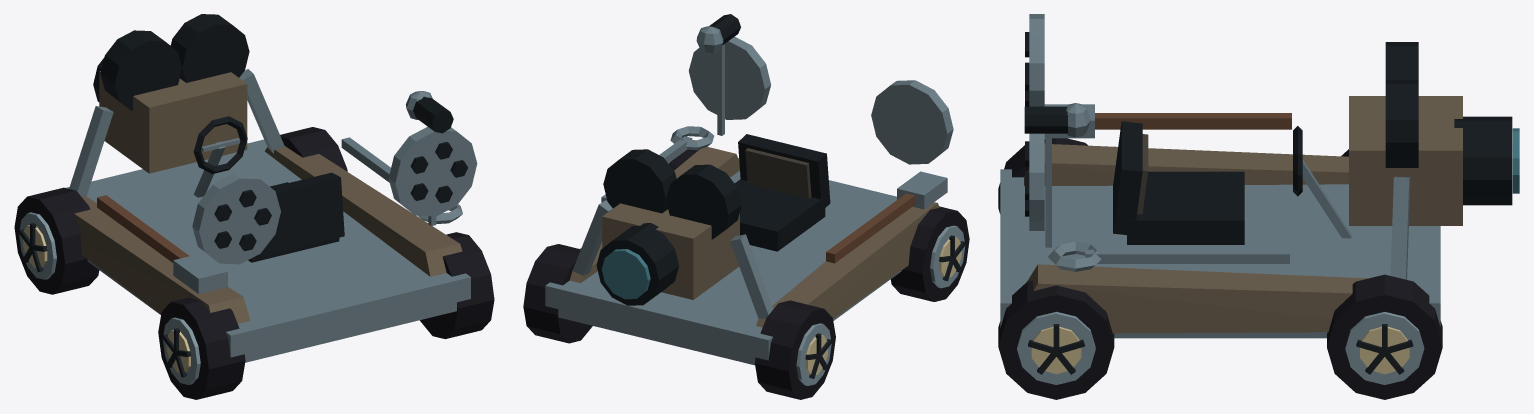
File: kart.glb
The picture shows the model from 3 angles, left to right: view 1: azimuth 30°, elevation 25°; view 2: azimuth 150°, elevation 25°; view 3: azimuth 270°, elevation 25°; orthographic projection. The views are drawn at different scales.
Visible parts, largest first — view 1: identity-camera-rig-camera-dolly-and-lens, identity-camera-rig-motif-film, identity-camera-rig-driver-cockpit, wheel-rear-left, wheel-front-left, identity-camera-rig-motif-tools, wheel-rear-right, wheel-front-right, identity-camera-rig-motif-microphone; view 2: identity-camera-rig-camera-dolly-and-lens, identity-camera-rig-motif-film, identity-camera-rig-driver-cockpit, wheel-front-left, wheel-rear-left, identity-camera-rig-motif-tools, wheel-front-right, identity-camera-rig-motif-microphone; view 3: identity-camera-rig-camera-dolly-and-lens, identity-camera-rig-driver-cockpit, wheel-front-right, wheel-rear-right, identity-camera-rig-motif-tools, identity-camera-rig-motif-film, identity-camera-rig-motif-microphone, wheel-rear-left.
Part boxes in pixels (box(x1,y1,x2,y2)): identity-camera-rig-camera-dolly-and-lens: box(66, 14, 470, 362); identity-camera-rig-motif-film: box(192, 126, 477, 264); identity-camera-rig-driver-cockpit: box(193, 116, 344, 262); wheel-rear-left: box(158, 297, 245, 399); wheel-front-left: box(14, 187, 99, 294); identity-camera-rig-motif-tools: box(97, 137, 462, 293); wheel-rear-right: box(420, 232, 494, 339); wheel-front-right: box(280, 127, 347, 171); identity-camera-rig-motif-microphone: box(406, 91, 453, 226); identity-camera-rig-camera-dolly-and-lens: box(545, 147, 939, 365); identity-camera-rig-motif-film: box(688, 36, 953, 164); identity-camera-rig-driver-cockpit: box(734, 134, 830, 251); wheel-front-left: box(755, 300, 835, 399); wheel-rear-left: box(890, 206, 969, 301); identity-camera-rig-motif-tools: box(601, 126, 947, 263); wheel-front-right: box(523, 244, 592, 343); identity-camera-rig-motif-microphone: box(696, 14, 740, 135); identity-camera-rig-camera-dolly-and-lens: box(1000, 42, 1519, 338); identity-camera-rig-driver-cockpit: box(1113, 121, 1351, 244); wheel-front-right: box(1327, 274, 1442, 399); wheel-rear-right: box(998, 280, 1114, 399); identity-camera-rig-motif-tools: box(1044, 104, 1291, 271); identity-camera-rig-motif-film: box(1025, 14, 1044, 230); identity-camera-rig-motif-microphone: box(1024, 103, 1090, 247); wheel-rear-left: box(998, 138, 1087, 213).
Bounding box in the file's own units: 2.07 × 1.57 × 2.7.
